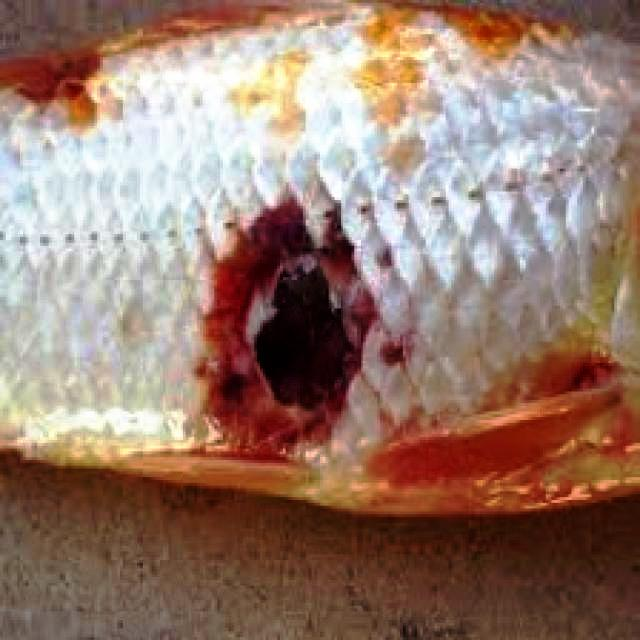Aeromonas Septicemia: (0, 0, 640, 514)
